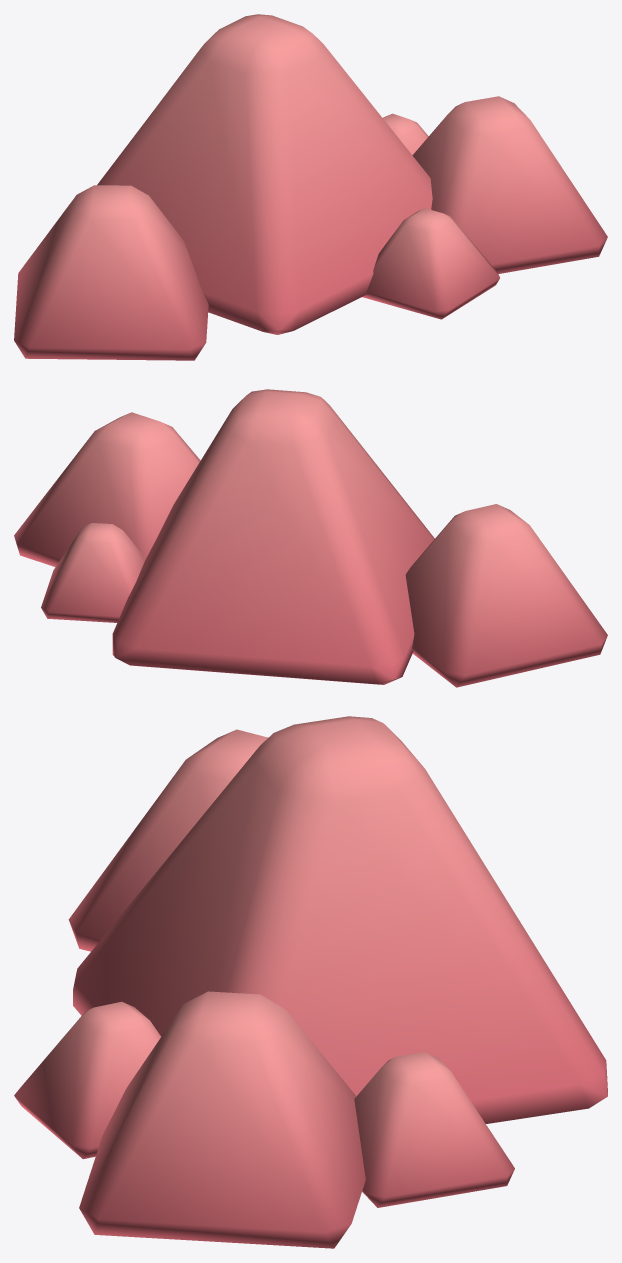
Rendered from Bush_4_F_Color8.fbx.
3 renders of one model, top to bottom at view 1: azimuth 30°, elevation 25°; view 2: azimuth 150°, elevation 25°; view 3: azimuth 270°, elevation 25°, orthographic. The views are drawn at different scales.
Visible parts, largest first — view 1: Bush_4_F_Color8; view 2: Bush_4_F_Color8; view 3: Bush_4_F_Color8.
Boxes of the visible parts, x1=… form: Bush_4_F_Color8: x1=14, y1=14, x2=607, y2=360; Bush_4_F_Color8: x1=14, y1=389, x2=607, y2=687; Bush_4_F_Color8: x1=14, y1=716, x2=607, y2=1248.
Size of the model in its own units: 3.39 by 1.3 by 2.14.
